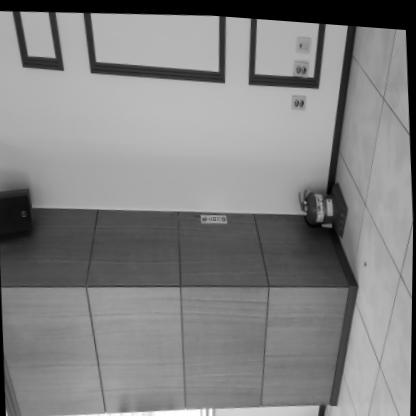FE: (296, 173, 349, 230)
